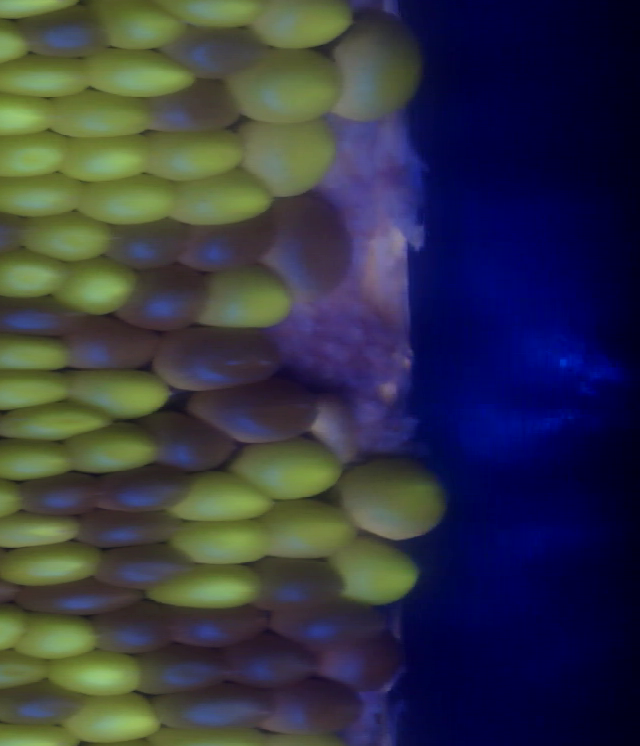fluorescent: (323, 1, 430, 130), (218, 42, 355, 128), (334, 448, 456, 543), (237, 111, 345, 198), (231, 430, 344, 508), (191, 256, 297, 336), (324, 528, 429, 608), (256, 494, 368, 567), (78, 39, 200, 104), (164, 465, 287, 529), (63, 362, 182, 427), (10, 207, 131, 269), (162, 168, 282, 230), (138, 125, 251, 190), (164, 514, 286, 574), (147, 556, 271, 614), (0, 395, 122, 451), (72, 171, 189, 229), (54, 132, 168, 191), (41, 252, 144, 317), (44, 86, 159, 143), (0, 536, 113, 594), (63, 419, 168, 481), (60, 686, 167, 746), (243, 1, 359, 54), (79, 1, 196, 53), (45, 647, 151, 701), (12, 608, 111, 664), (0, 434, 86, 487), (0, 173, 92, 222), (0, 506, 89, 555), (0, 362, 79, 417), (0, 127, 76, 184), (0, 244, 71, 303), (0, 82, 67, 143), (0, 327, 79, 377), (156, 1, 264, 32), (0, 8, 40, 81), (0, 646, 57, 694), (0, 599, 39, 663), (0, 721, 90, 746)
nonfluorescent: (264, 191, 361, 308), (146, 320, 291, 396), (186, 374, 325, 449), (134, 402, 249, 477), (260, 673, 377, 744), (172, 208, 290, 277), (113, 259, 216, 337), (135, 73, 247, 144), (152, 678, 283, 738), (159, 20, 275, 85), (60, 310, 169, 378), (245, 552, 355, 619), (130, 639, 243, 704), (268, 596, 398, 652), (163, 596, 284, 656), (217, 630, 329, 694), (11, 572, 150, 623), (308, 628, 412, 693), (93, 460, 206, 517), (91, 540, 203, 597), (10, 1, 115, 61), (70, 504, 189, 555), (85, 599, 183, 660), (101, 214, 192, 278), (303, 388, 371, 472), (0, 674, 90, 732), (14, 470, 114, 522), (0, 291, 94, 344), (0, 200, 31, 263)
